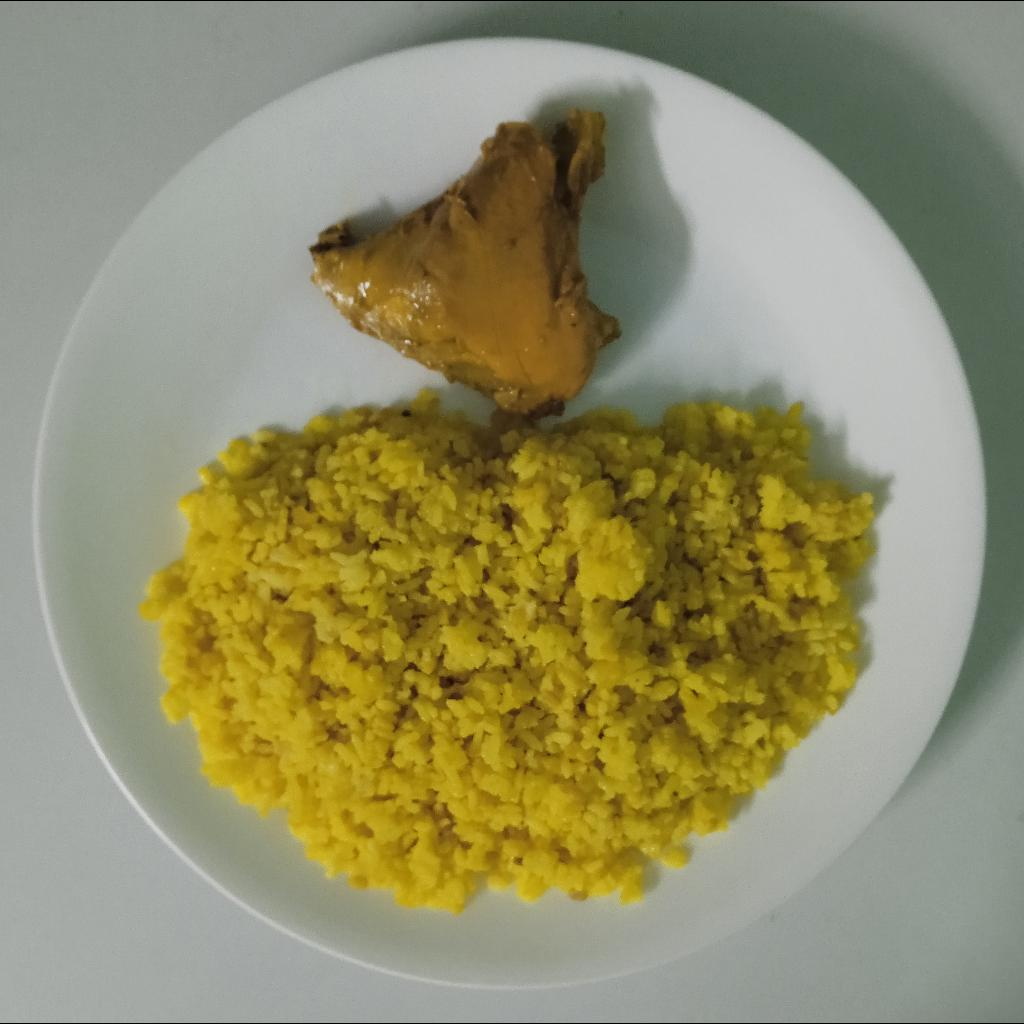chicken: (313, 108, 622, 416)
khichuri: (146, 404, 880, 915)
